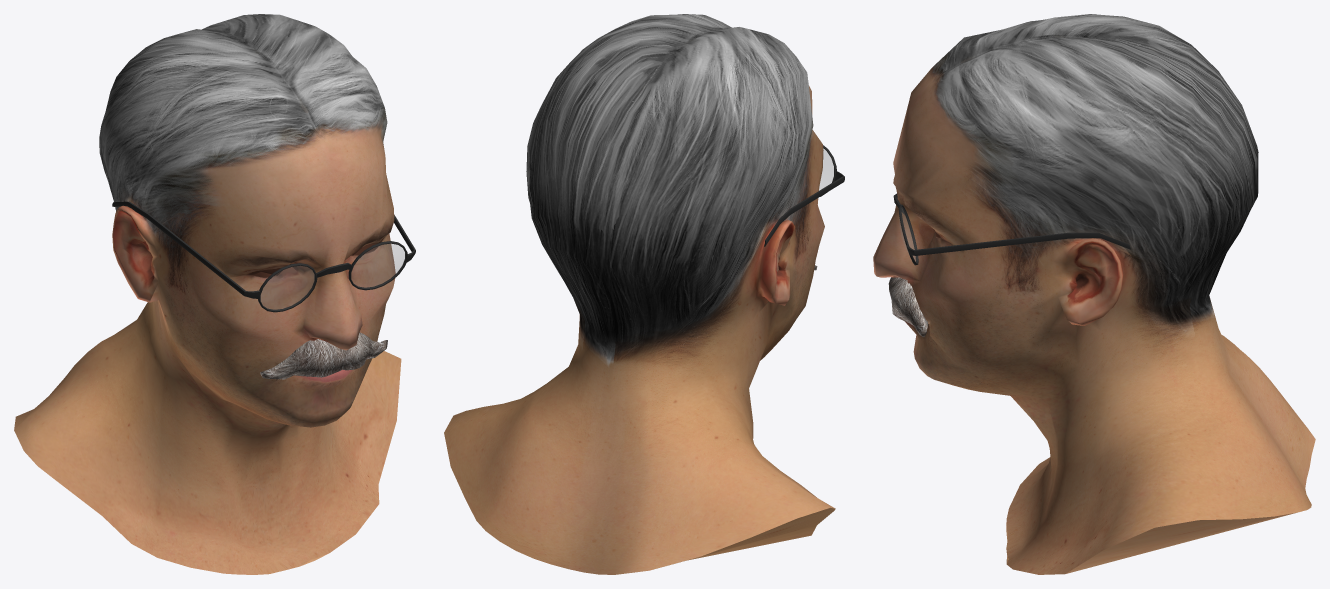
Rendered from starPuipin_glava_lowPoly_v003.fbx.
3 views of the same model, side by side, from view 1: azimuth 30°, elevation 25°; view 2: azimuth 150°, elevation 25°; view 3: azimuth 270°, elevation 25° (orthographic). The views are drawn at different scales.
Visible parts, largest first — view 1: Pupin_star_Low1, GlassessOld, Moustache1; view 2: Pupin_star_Low1, GlassessOld; view 3: Pupin_star_Low1, GlassessOld, Moustache1.
Part boxes in pixels (x1,y1,x2,y2): Pupin_star_Low1: (14,14,401,574); GlassessOld: (112,201,415,312); Moustache1: (260,332,387,379); Pupin_star_Low1: (444,14,835,574); GlassessOld: (764,145,844,246); Pupin_star_Low1: (873,14,1315,574); GlassessOld: (893,193,1130,265); Moustache1: (888,277,928,336).
Size of the model in its own units: 3.26 by 4.18 by 3.23.
